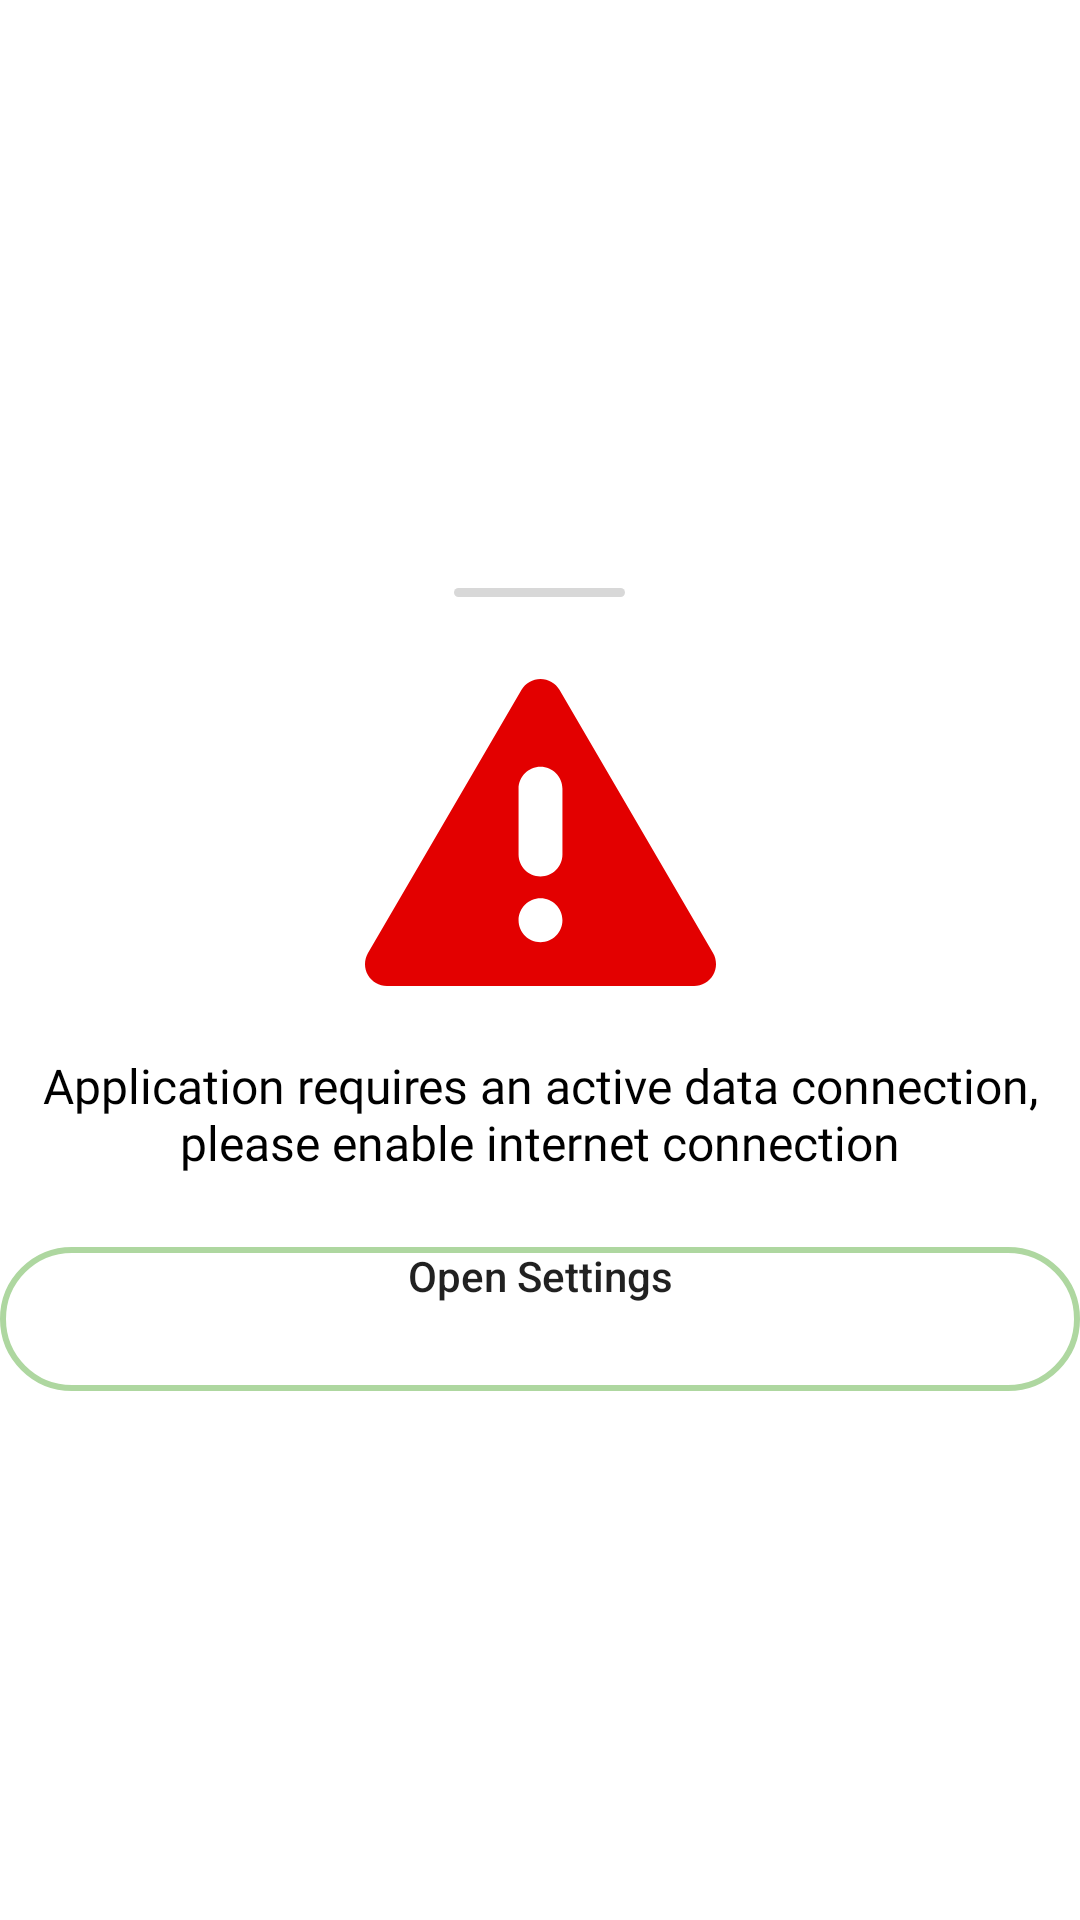

Named icons in this screenshot (1080px×1920px) and their centers, (x=x, y=y):
warning: (x=540, y=832)
